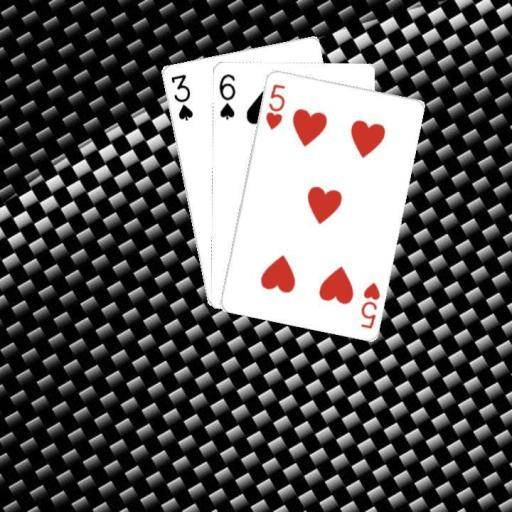3S: (167, 71, 194, 122)
5H: (262, 80, 287, 131), (357, 278, 381, 330)
6S: (216, 70, 236, 121)
